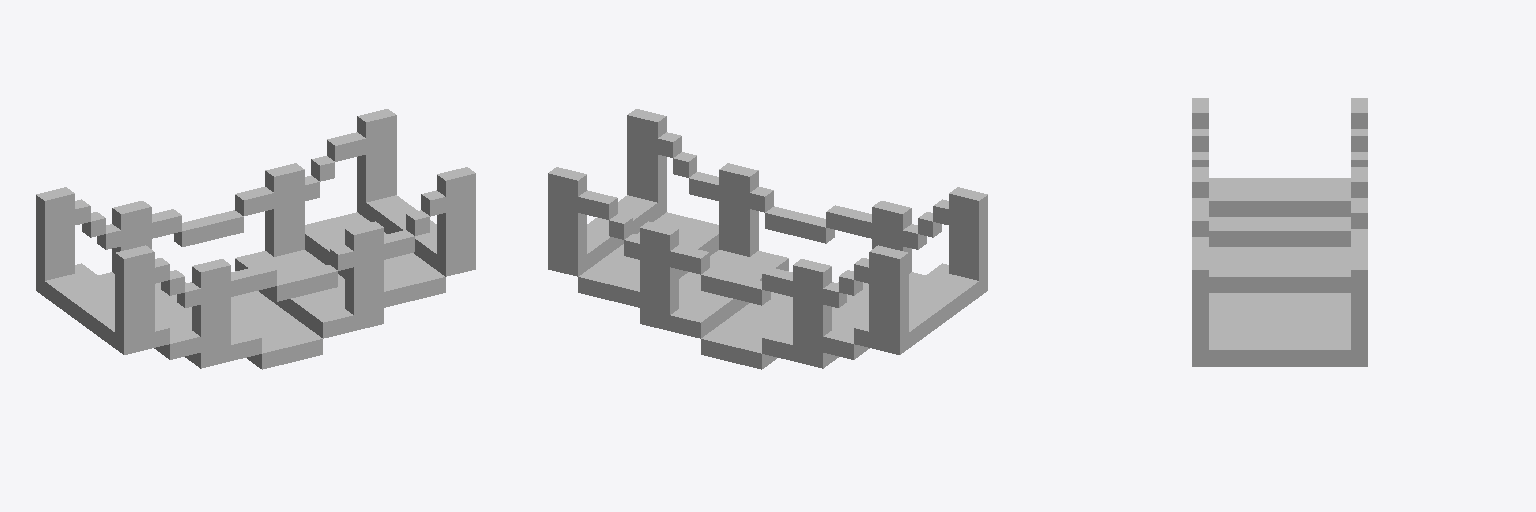
The model's file is WoodenBridge2.obj.
3 views of the same model, side by side, from view 1: azimuth 30°, elevation 25°; view 2: azimuth 150°, elevation 25°; view 3: azimuth 270°, elevation 25° (orthographic).
Visible parts, largest first — view 1: object 1; view 2: object 1; view 3: object 1.
Boxes of the visible parts, x1=… form: object 1: x1=36, y1=109, x2=475, y2=369; object 1: x1=548, y1=109, x2=987, y2=369; object 1: x1=1192, y1=98, x2=1367, y2=366.
Bounding box in the file's own units: 2.3 × 0.9 × 1.